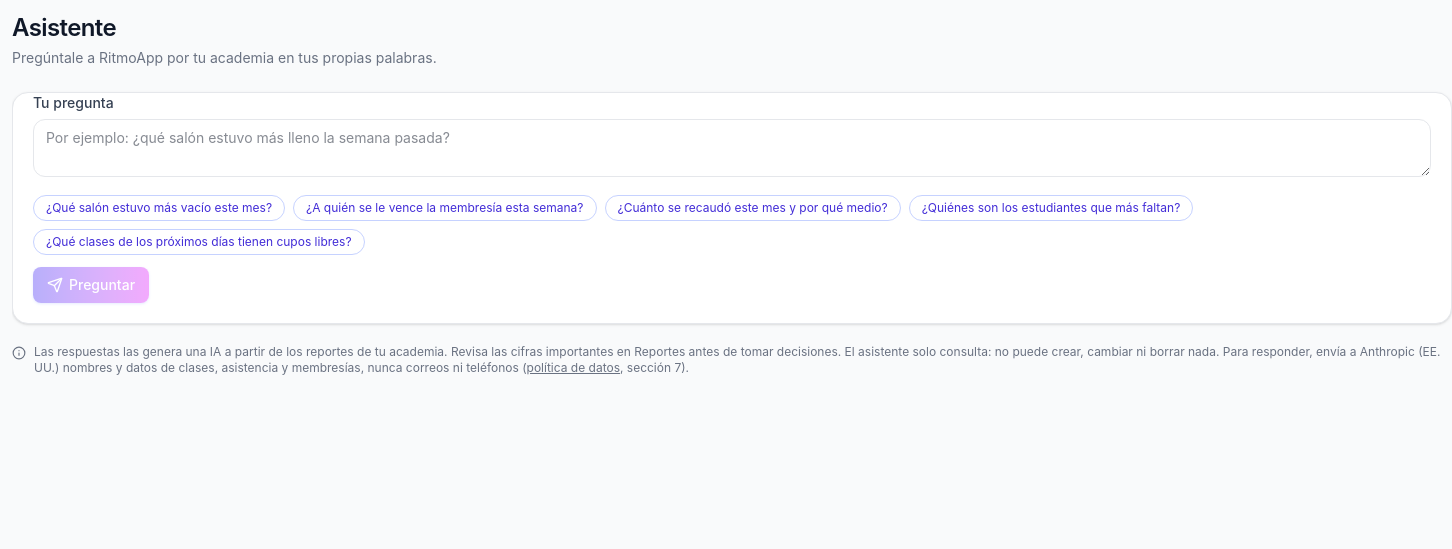
Test: RF-23 · HU-24: asistente de IA (pantalla) › CP-193 · envía la pregunta y muestra la respuesta como texto con lo que consultó
Type "¿Qué salón estuvo más vacío?" into the text box labelled "Tu pregunta" at (732, 148), box [33, 119, 1431, 177]
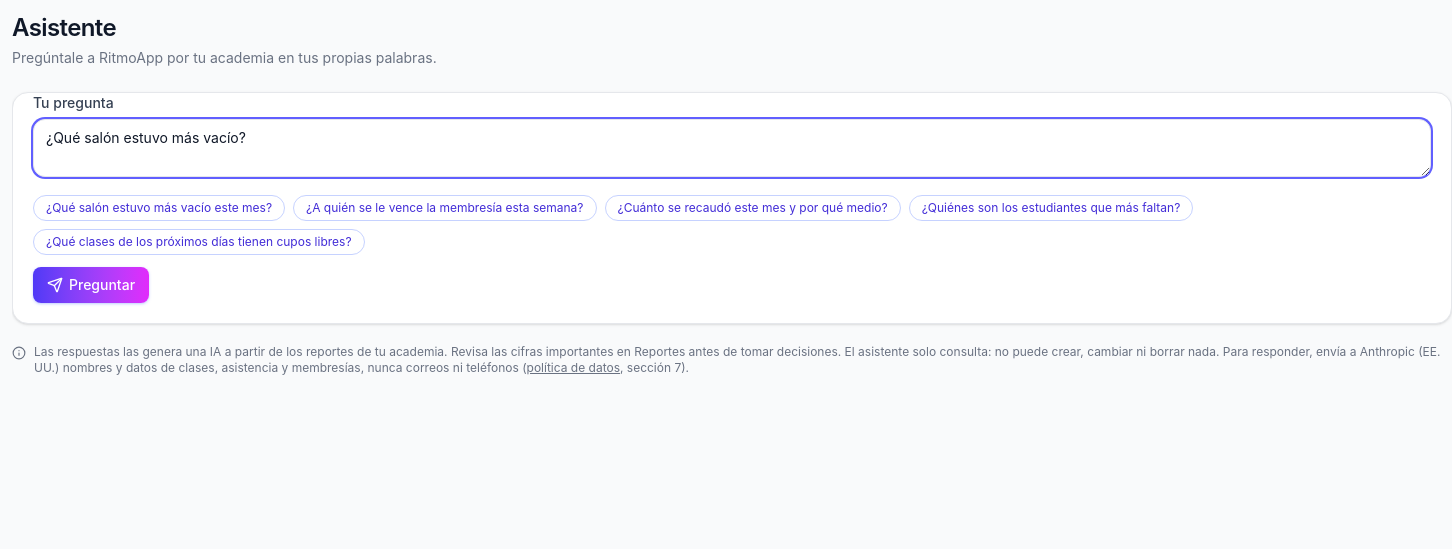
Click the button "Preguntar" at (91, 285), box [33, 267, 149, 303]
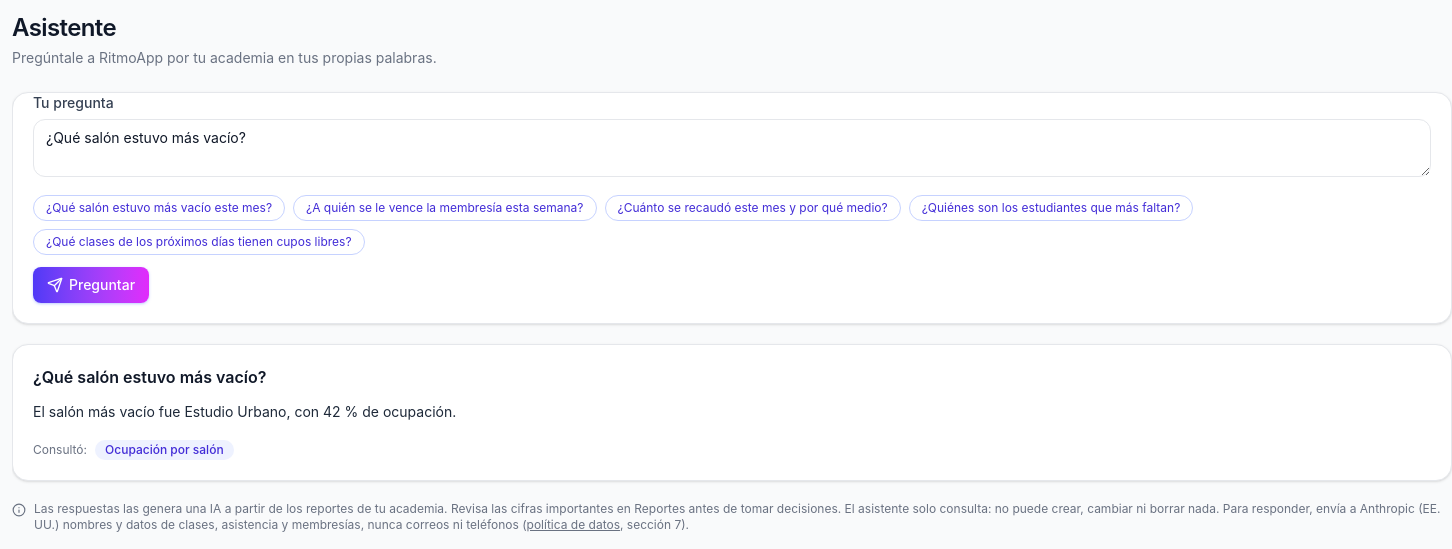
Expected: the text "El salón más vacío fue Estudio Urbano, con 42 % de ocupación." is shown, [33, 403, 456, 420]
Expected: the text "Ocupación por salón" is shown, [95, 440, 234, 460]
